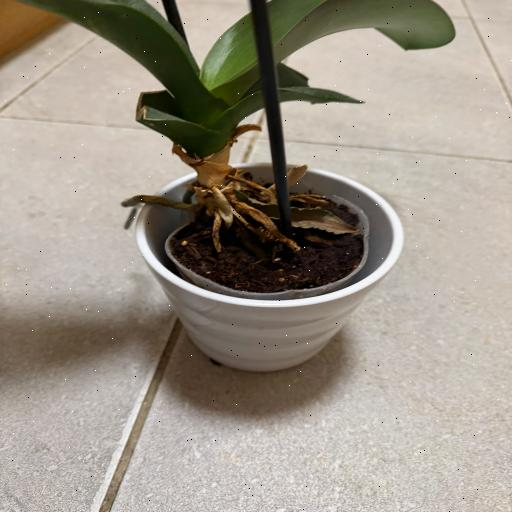Plant Pot: (131, 162, 406, 372)
